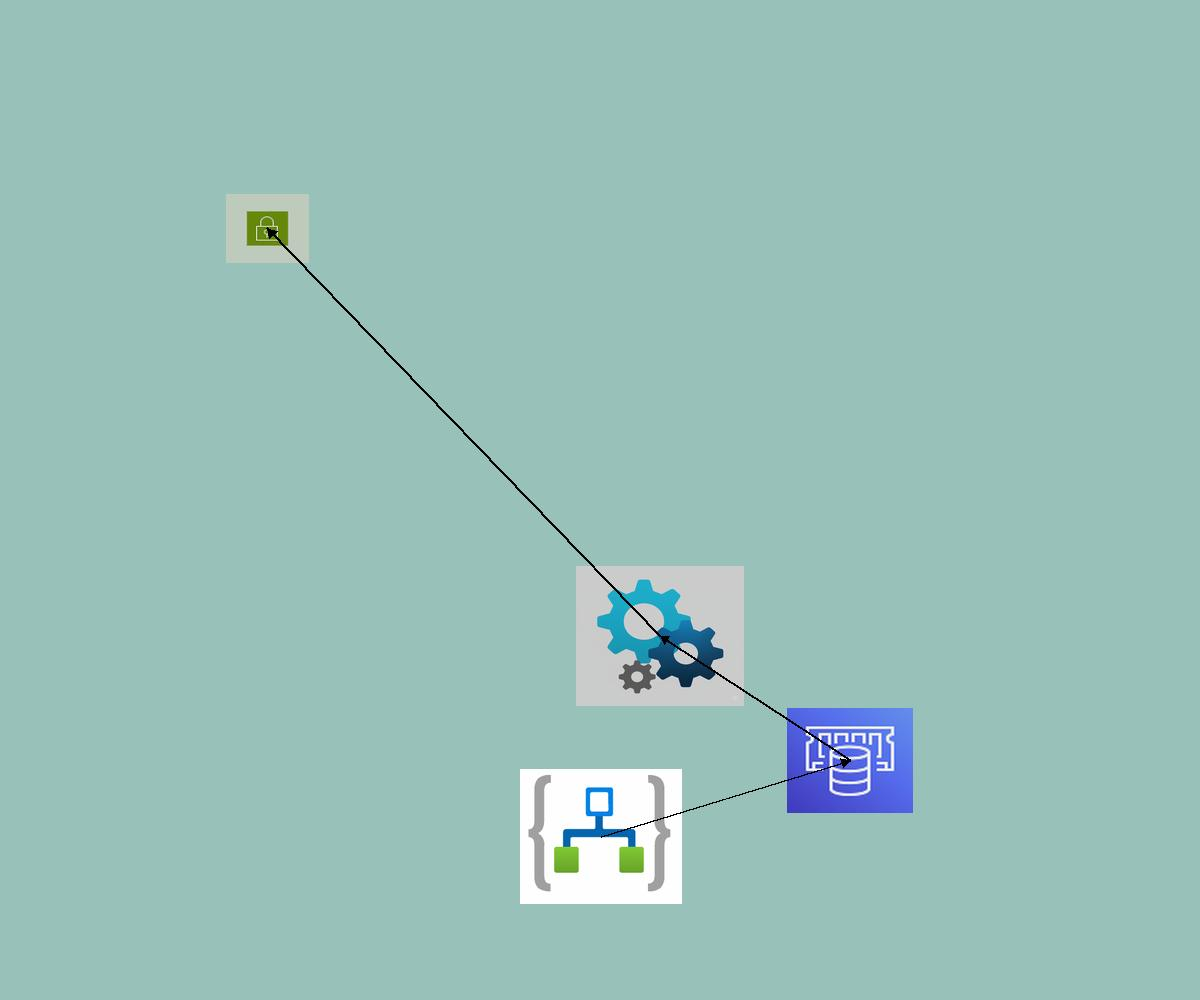AWS-ElastiCache: (787, 708, 913, 813)
AWS-Public-subnet: (226, 194, 309, 263)
Azure_api: (576, 566, 744, 706)
Azure_integration-204-Logic-Apps: (520, 769, 682, 904)
